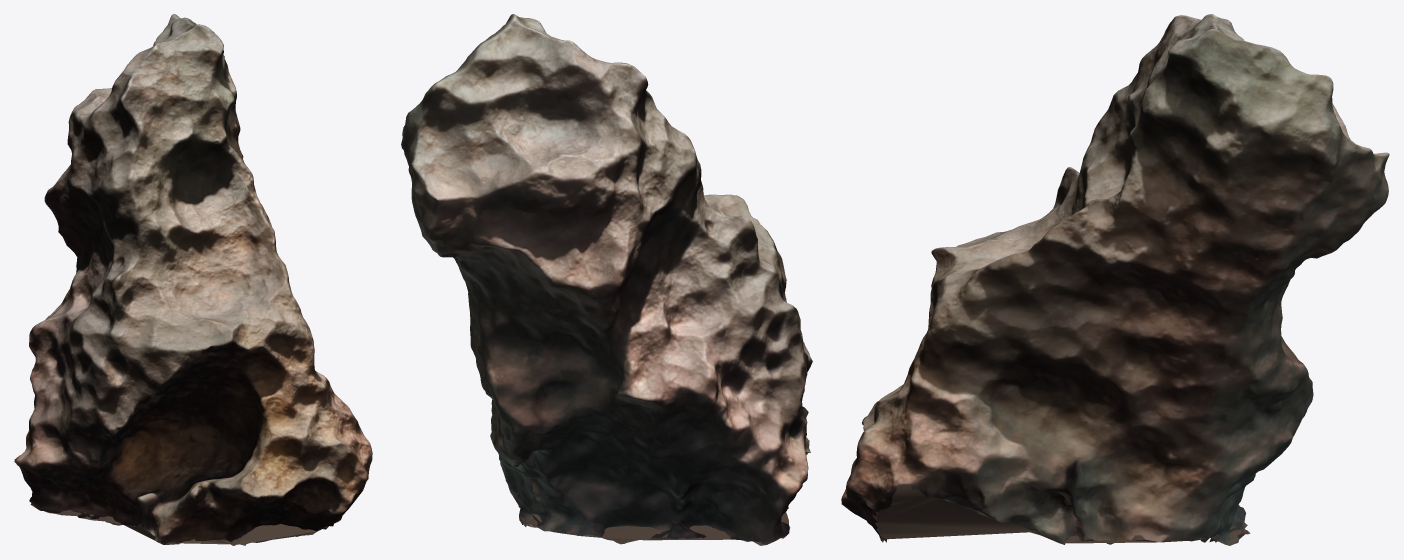
File: meteor.glb
The picture shows the model from 3 angles, left to right: view 1: azimuth 30°, elevation 25°; view 2: azimuth 150°, elevation 25°; view 3: azimuth 270°, elevation 25°; orthographic projection. The views are drawn at different scales.
Visible parts, largest first — view 1: Object_2; view 2: Object_2; view 3: Object_2.
Boxes of the visible parts, bbox=[...] form: Object_2: bbox=[14, 14, 372, 545]; Object_2: bbox=[401, 14, 812, 545]; Object_2: bbox=[841, 14, 1389, 545].
Bounding box in the file's own units: 0.467 × 0.706 × 0.6676.
1 material, 1 textured.
